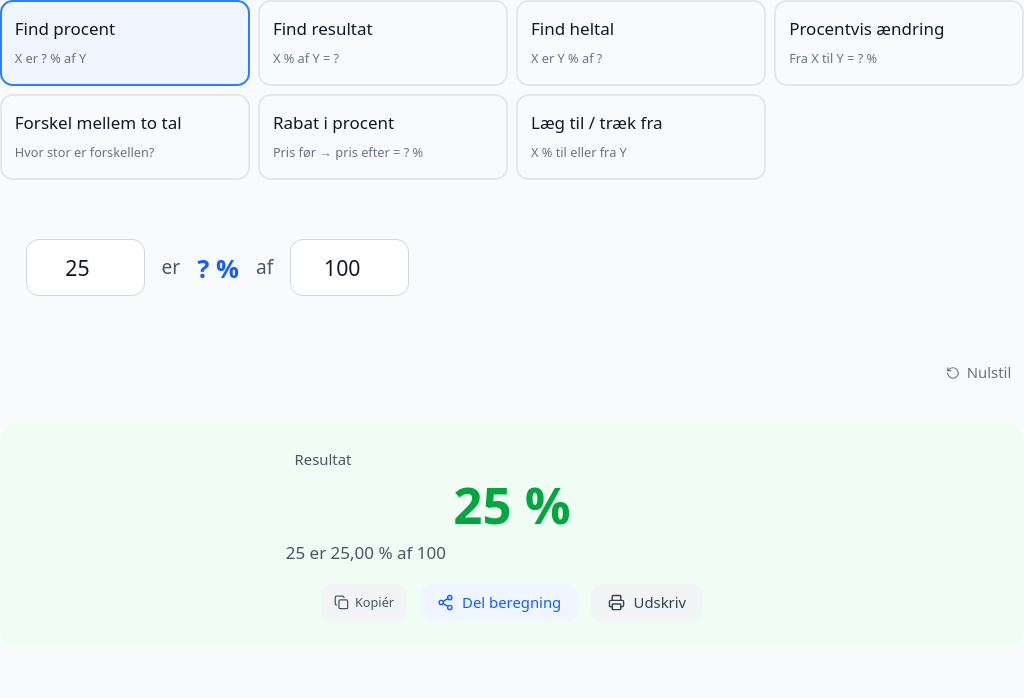
ProcentBeregner › tillaeg-tilstanden lægger 20 % til 150 og får FAQ'ens 180 kr.
Click the radio button labelled "Læg til / træk fra X % til eller fra Y": point(641, 137) [516, 94, 766, 180]
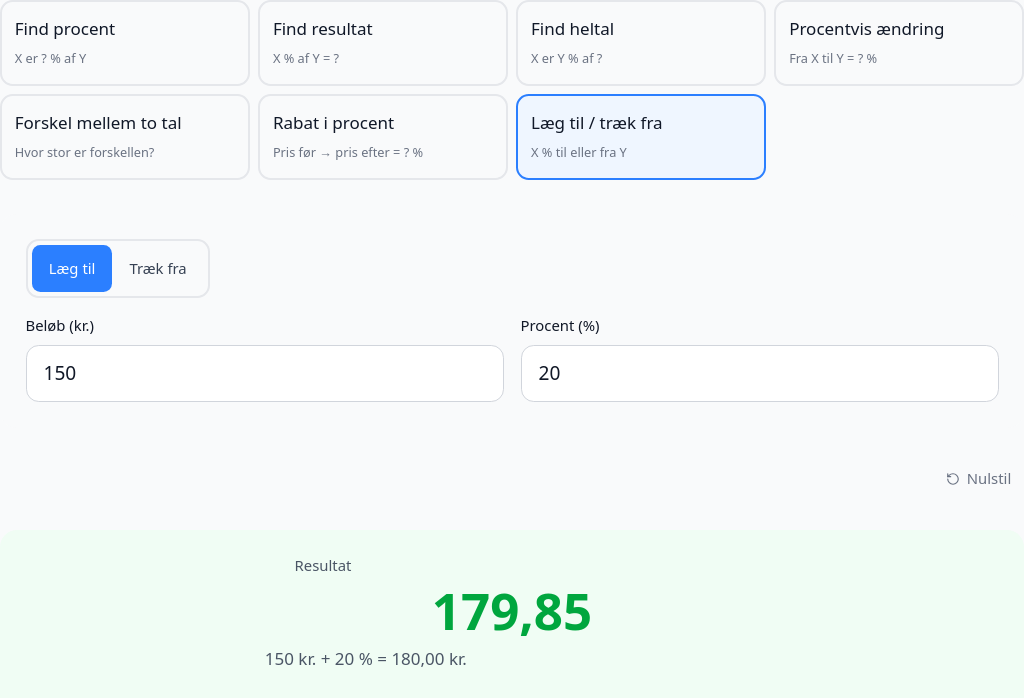
Now the text "150 kr. + 20 % = 180,00 kr." is shown, box [265, 647, 467, 670]
